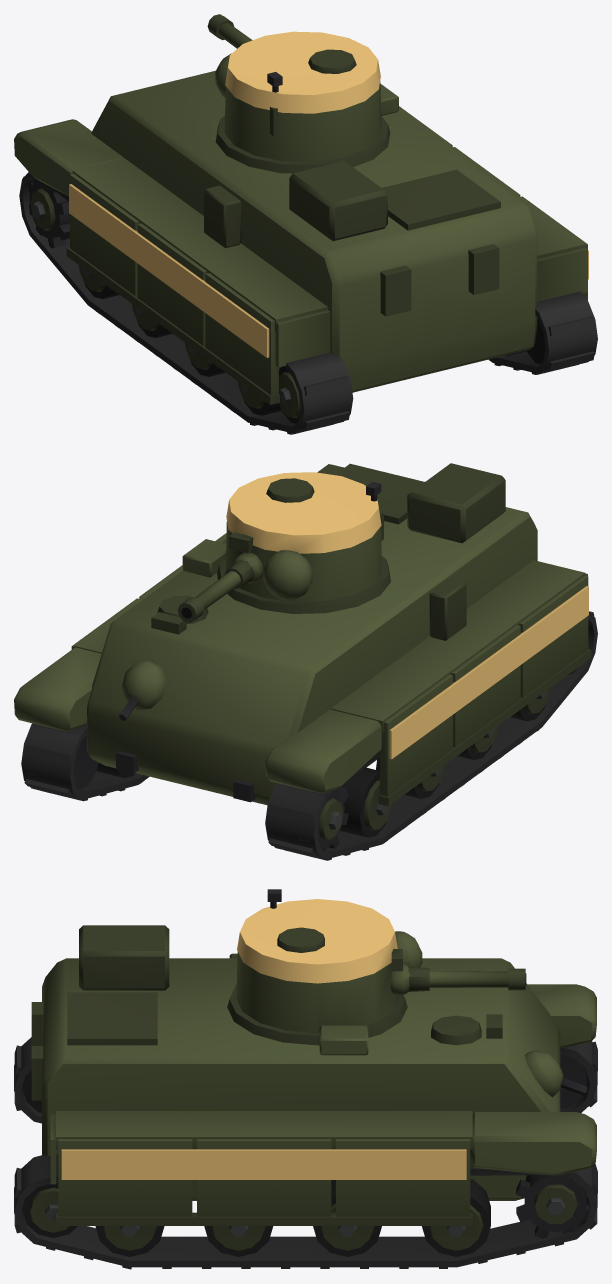
File: tank.glb
The picture shows the model from 3 angles, top to bottom: view 1: azimuth 30°, elevation 25°; view 2: azimuth 150°, elevation 25°; view 3: azimuth 270°, elevation 25°; orthographic projection. The views are drawn at different scales.
Visible parts, largest first — view 1: Hull, Turret; view 2: Hull, Turret; view 3: Hull, Turret.
Part boxes in pixels (x1,y1,x2,y2): Hull: (14, 70, 597, 434); Turret: (207, 14, 390, 173); Hull: (14, 463, 597, 860); Turret: (177, 472, 390, 622); Hull: (14, 925, 597, 1269); Turret: (227, 889, 526, 1045).
Size of the model in its own units: 0.8061 by 0.6581 by 1.24.
